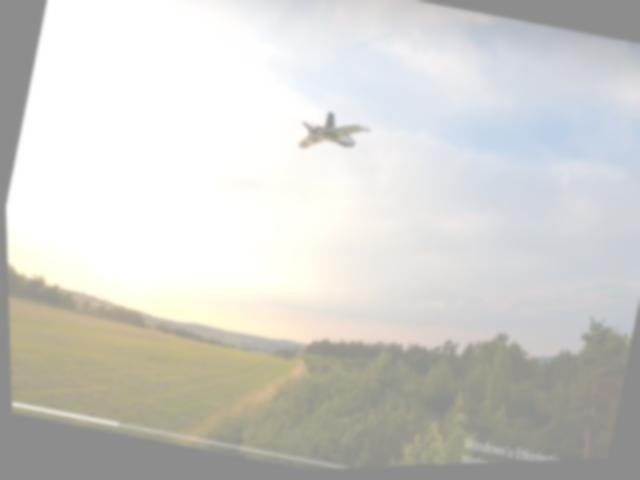plane: (295, 108, 373, 165)
